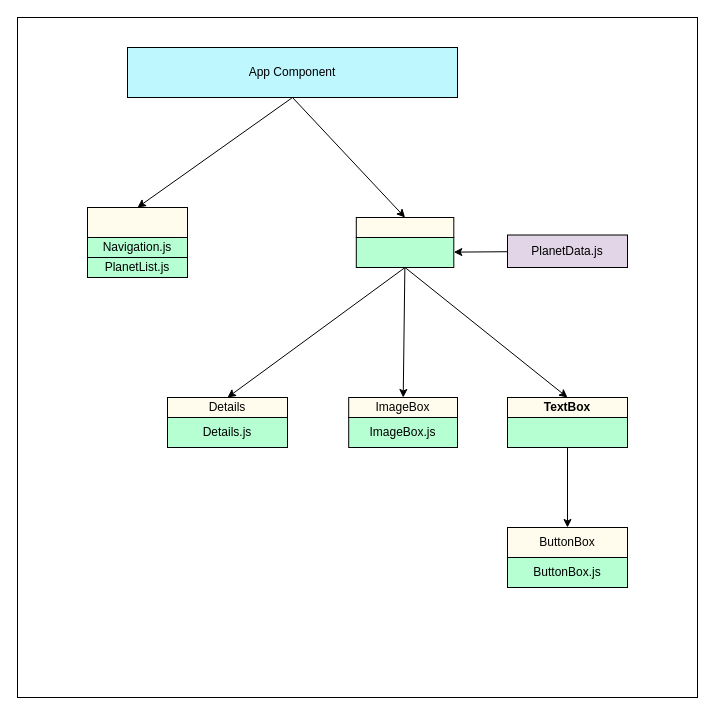
This 715x715 diagram has some shape labels left out. The shapes that lost their labels are listed below. From the top down, each one's box as (x1, y1, x2, y2) in pixels, then its label:
(86, 206, 188, 238): Navigation
(355, 216, 454, 238): Main Component
(355, 236, 454, 268): Main.js
(506, 416, 628, 448): TextBox.js
